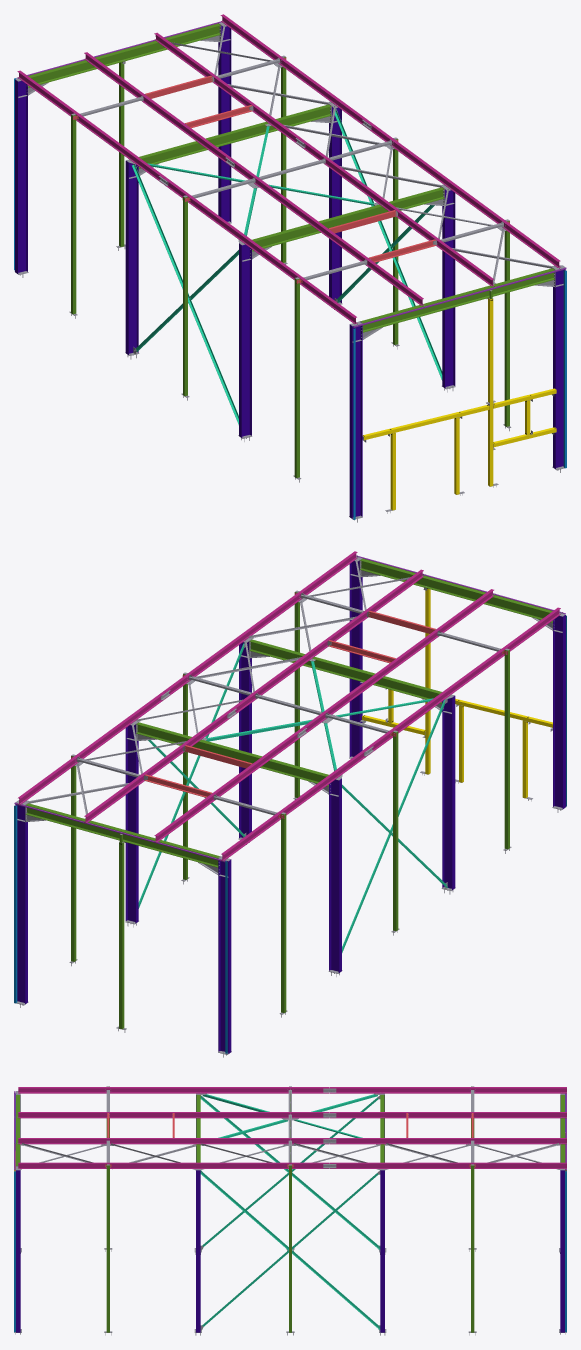
Rendered from Lot 1.glb.
3 renders of one model, top to bottom at view 1: azimuth 30°, elevation 25°; view 2: azimuth 150°, elevation 25°; view 3: azimuth 270°, elevation 25°, orthographic. The views are drawn at different scales.
Parts seen in each view (by area): view 1: Fake; view 2: Fake; view 3: Fake.
Boxes of the visible parts, left/top/right/bottom form: Fake: left=14, top=14, right=566, bottom=522; Fake: left=14, top=551, right=566, bottom=1057; Fake: left=14, top=1086, right=566, bottom=1335.
Bounding box in the file's own units: 6.35 × 5.99 × 17.5.
